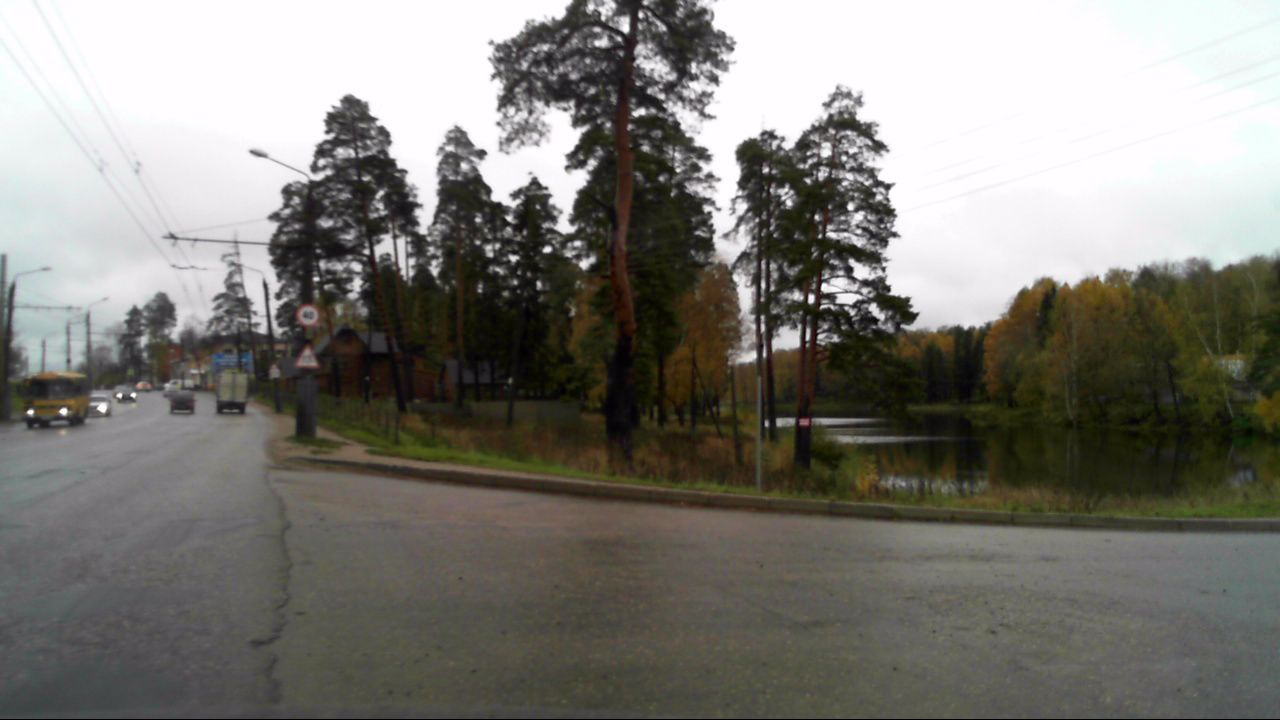speed_warning_40: (296, 304, 318, 328)
